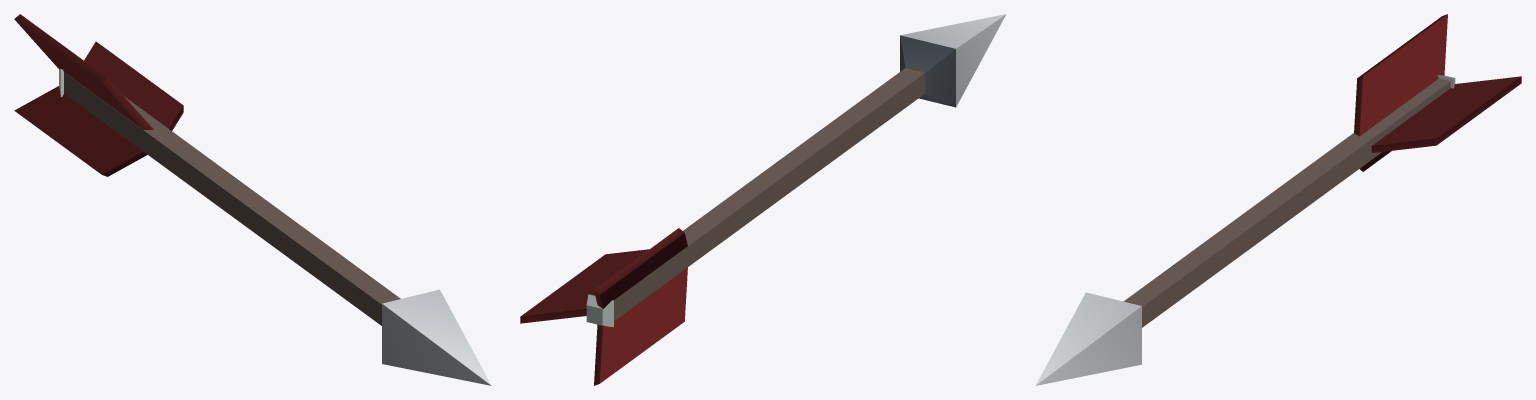
The model's file is ammo_arrow.gltf.
3 renders of one model, left to right at view 1: azimuth 30°, elevation 25°; view 2: azimuth 150°, elevation 25°; view 3: azimuth 330°, elevation 25°, orthographic. The views are drawn at different scales.
Visible parts, largest first — view 1: ammo_arrow; view 2: ammo_arrow; view 3: ammo_arrow.
Part boxes in pixels (box(x1,y1,x2,y2)): ammo_arrow: box(14, 14, 491, 385); ammo_arrow: box(520, 14, 1006, 385); ammo_arrow: box(1035, 14, 1521, 385).
Size of the model in its own units: 0.1402 by 0.1619 by 1.33.
1 material, 1 textured.
